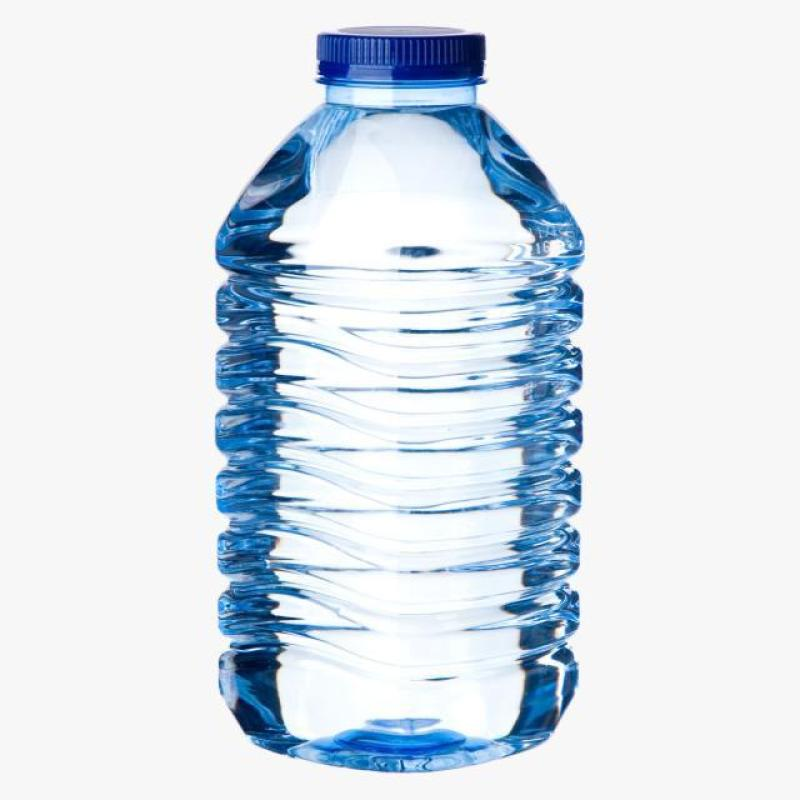botella: (215, 23, 590, 772)
